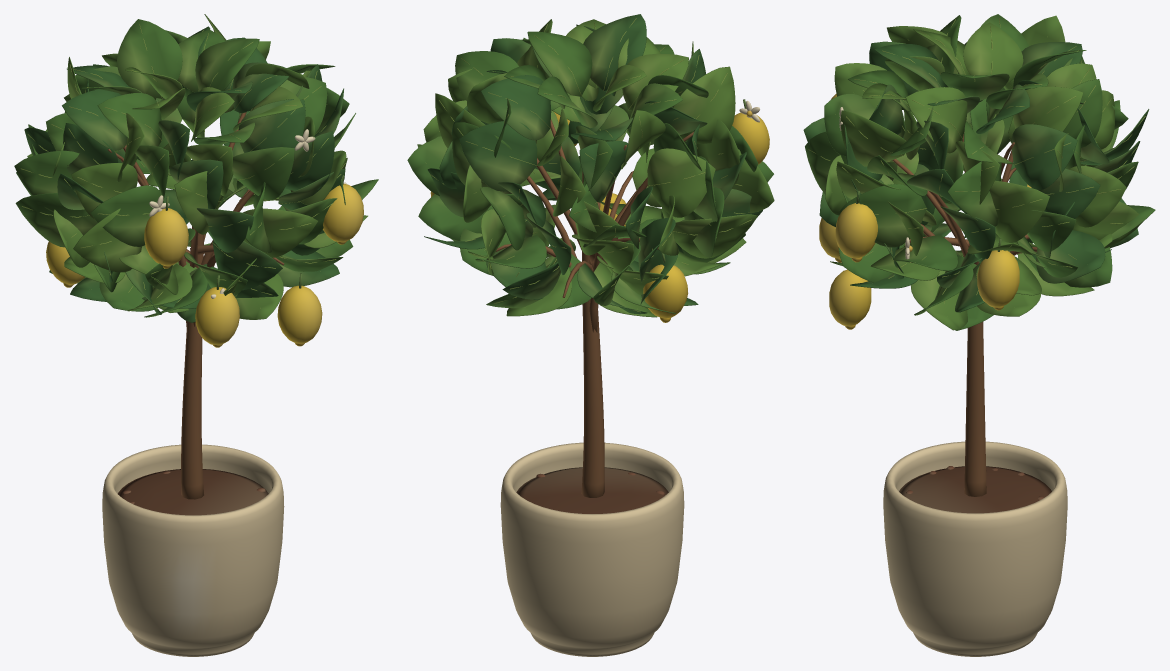
Rendered from lemon.glb.
3 renders of one model, left to right at view 1: azimuth 30°, elevation 25°; view 2: azimuth 150°, elevation 25°; view 3: azimuth 270°, elevation 25°, orthographic.
Visible parts, largest first — view 1: crown, pot, trunk, lemon3, lemon0, lemon2, lemon1, lemon5; view 2: crown, pot, trunk, lemon5, lemon0; view 3: crown, pot, trunk, lemon4, lemon1, lemon3, lemon2.
Boxes of the visible parts, <box> form: crown: <box>14,14,378,322</box>; pot: <box>102,444,284,656</box>; trunk: <box>108,112,284,499</box>; lemon3: <box>277,273,322,346</box>; lemon0: <box>144,196,188,268</box>; lemon2: <box>195,275,239,347</box>; lemon1: <box>323,175,363,244</box>; lemon5: <box>46,241,84,287</box>; crown: <box>407,14,774,317</box>; pot: <box>500,442,684,656</box>; trunk: <box>495,119,694,497</box>; lemon5: <box>643,252,688,322</box>; lemon0: <box>732,99,769,164</box>; crown: <box>803,14,1155,330</box>; pot: <box>883,441,1067,656</box>; trunk: <box>892,132,1037,496</box>; lemon4: <box>977,238,1019,310</box>; lemon1: <box>835,190,877,262</box>; lemon3: <box>829,269,871,329</box>; lemon2: <box>819,218,841,262</box>.
Size of the model in its own units: 0.5424 by 0.9846 by 0.5343.
